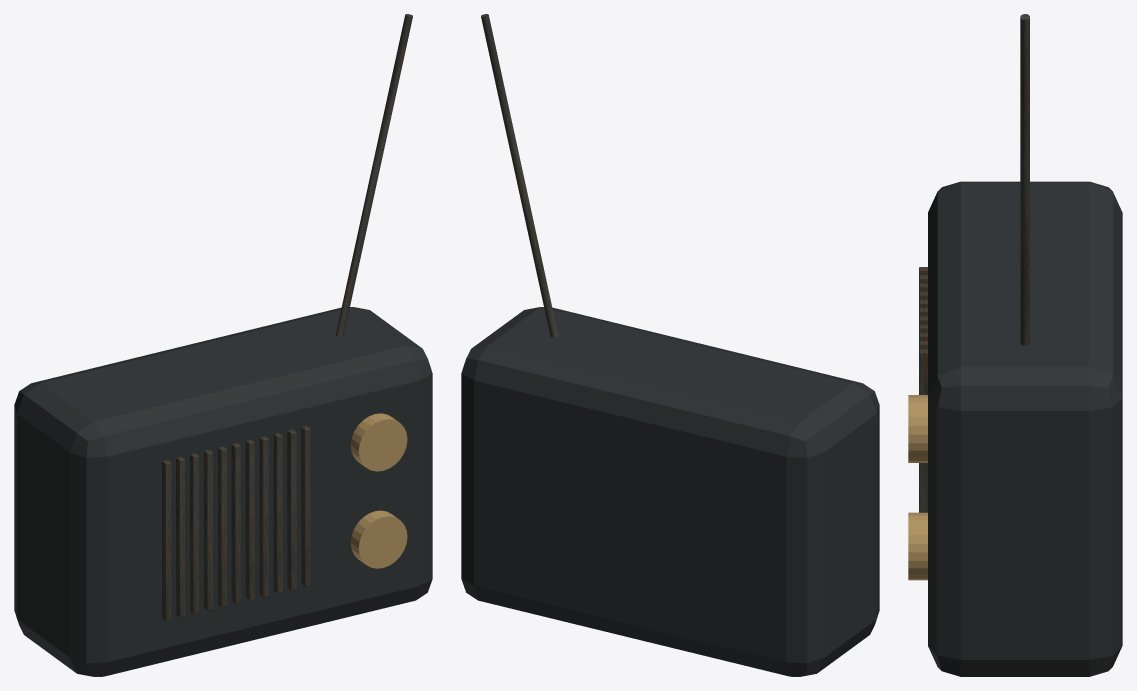
File: radio.glb
The picture shows the model from 3 angles, left to right: view 1: azimuth 30°, elevation 25°; view 2: azimuth 150°, elevation 25°; view 3: azimuth 270°, elevation 25°; orthographic projection. The views are drawn at different scales.
Visible parts, largest first — view 1: Badan.009, Antena, Kenop, Kenop.001, Kisi.006, Kisi.008, Kisi.007, Kisi.009, Kisi.010, Kisi, Kisi.005, Kisi.004 (+3 smaller); view 2: Badan.009, Antena; view 3: Badan.009, Antena, Kenop, Kenop.001, Kisi.010.
Boxes of the visible parts, x1=… form: Badan.009: x1=14, y1=307, x2=432, y2=676; Antena: x1=335, y1=14, x2=412, y2=337; Kenop: x1=350, y1=510, x2=407, y2=568; Kenop.001: x1=350, y1=413, x2=407, y2=471; Kisi.006: x1=245, y1=439, x2=254, y2=600; Kisi.008: x1=273, y1=432, x2=282, y2=593; Kisi.007: x1=259, y1=436, x2=268, y2=597; Kisi.009: x1=287, y1=429, x2=296, y2=590; Kisi.010: x1=301, y1=426, x2=310, y2=586; Kisi: x1=162, y1=460, x2=171, y2=620; Kisi.005: x1=231, y1=443, x2=240, y2=603; Kisi.004: x1=218, y1=446, x2=226, y2=607; Badan.009: x1=461, y1=307, x2=879, y2=676; Antena: x1=481, y1=14, x2=558, y2=337; Badan.009: x1=928, y1=181, x2=1122, y2=676; Antena: x1=1020, y1=14, x2=1029, y2=345; Kenop: x1=908, y1=512, x2=927, y2=580; Kenop.001: x1=908, y1=395, x2=927, y2=462; Kisi.010: x1=919, y1=349, x2=927, y2=512.
Bounding box in the file's own units: 0.3179 × 0.4607 × 0.132.
3 materials, 1 textured.
